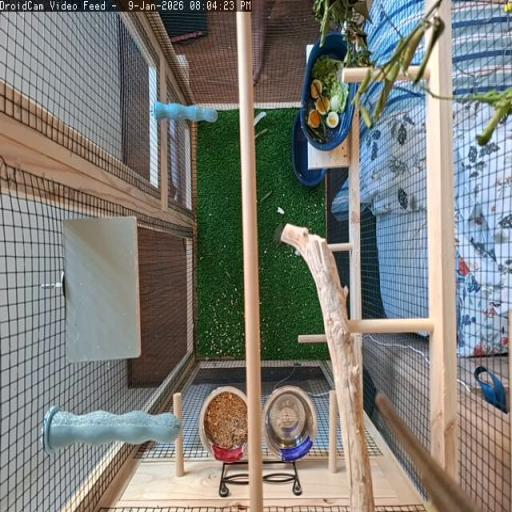bebedero: (263, 387, 316, 461)
comedero: (198, 386, 246, 462)
